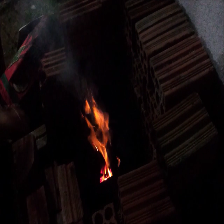fire_h: (85, 97, 113, 184)
fire_l: (116, 157, 120, 166)
